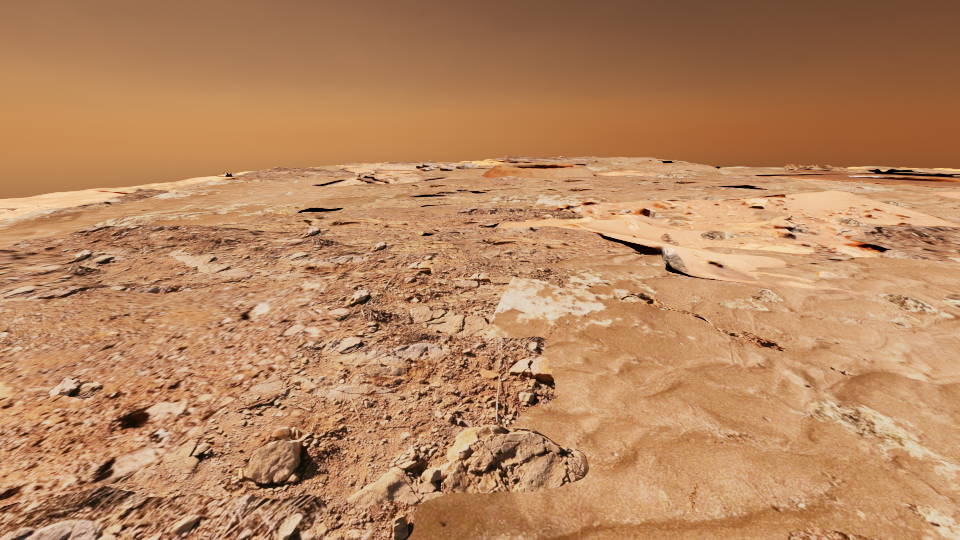bedrock: (0, 218, 583, 539), (621, 293, 788, 350), (343, 183, 631, 205), (41, 180, 212, 217), (223, 161, 453, 184), (853, 225, 959, 261), (454, 208, 583, 221), (805, 180, 907, 192), (49, 378, 103, 398), (489, 156, 607, 164), (860, 169, 953, 176), (682, 483, 698, 515), (784, 164, 857, 171), (0, 381, 13, 416), (731, 171, 807, 176), (524, 179, 617, 183), (667, 180, 738, 184), (267, 206, 307, 213), (830, 367, 854, 375), (341, 203, 370, 209), (686, 186, 733, 189), (657, 159, 683, 162), (619, 209, 632, 212)
hole: (849, 176, 959, 181)
rocks: (416, 163, 477, 170)
sand: (406, 252, 959, 539), (0, 174, 452, 248), (480, 175, 959, 225), (572, 157, 784, 177), (702, 247, 814, 265), (414, 159, 506, 178), (835, 217, 888, 239), (839, 166, 959, 175), (490, 184, 593, 191), (655, 211, 693, 226), (701, 230, 753, 240), (749, 210, 787, 220), (360, 522, 373, 539), (383, 170, 418, 176), (525, 178, 579, 181), (347, 168, 373, 172)
soil: (0, 267, 421, 505), (567, 194, 959, 268), (348, 161, 792, 197), (247, 198, 539, 238), (654, 253, 861, 295), (499, 227, 653, 261), (753, 170, 959, 187), (372, 285, 507, 309), (388, 249, 469, 269), (788, 526, 882, 539), (412, 194, 477, 199), (313, 181, 362, 186), (660, 233, 678, 245), (534, 215, 560, 220), (249, 229, 309, 231), (489, 277, 512, 282), (313, 165, 339, 169), (660, 162, 697, 164), (141, 492, 157, 496), (344, 163, 365, 165), (365, 166, 375, 169)
